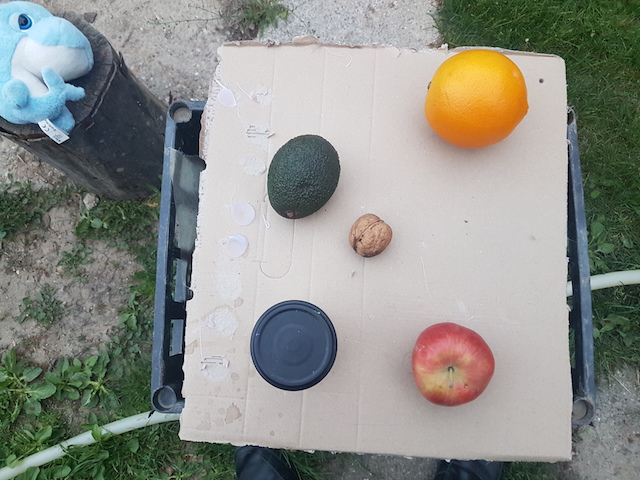apple: (410, 320, 495, 407)
avocado: (259, 132, 341, 221)
nut: (347, 212, 393, 257)
orange: (423, 49, 531, 151)
recipient: (241, 297, 340, 393)
